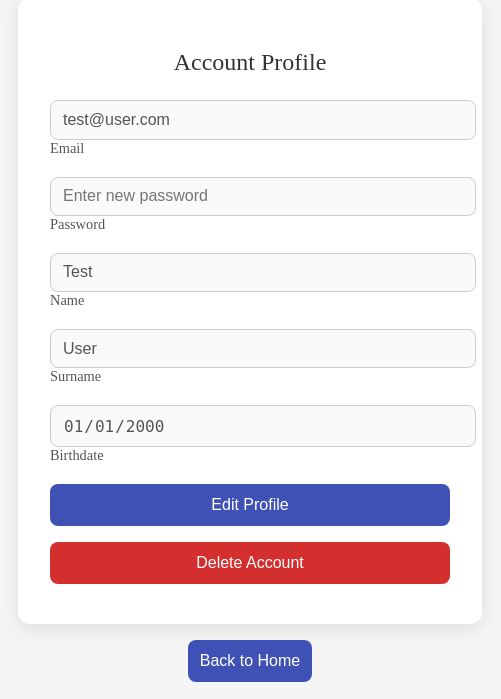
it: Account.vue › habilita los inputs al hacer clic en "Edit Profile"
Expected: the field labelled "Email" is disabled, [50,100,476,140]
Click the button "Edit Profile". click: (250,505)
box: [50,484,450,526]
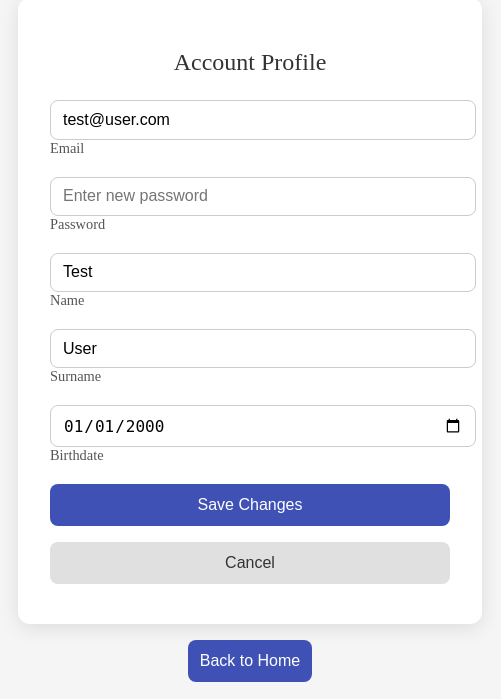
Result: the field labelled "Email" is enabled at [50,100,476,140]
